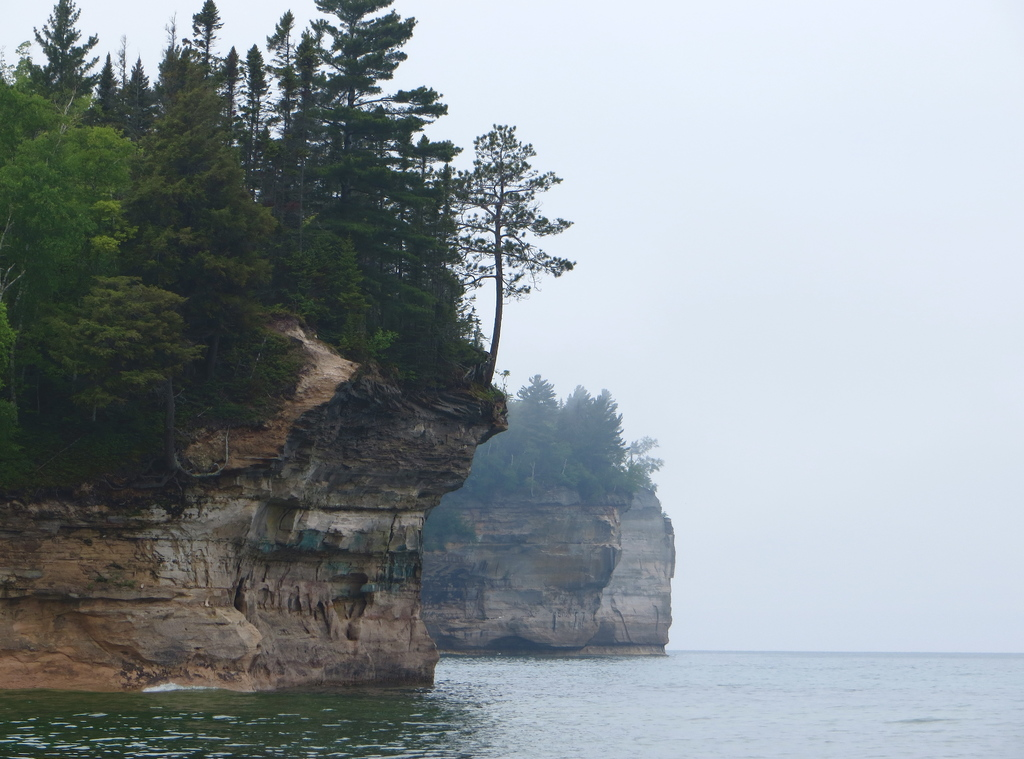Tree: (0, 0, 211, 497), (119, 44, 283, 375), (302, 0, 438, 350), (418, 374, 669, 556), (202, 8, 330, 322), (457, 106, 584, 403), (368, 85, 438, 356), (378, 133, 446, 386), (409, 140, 478, 379), (188, 0, 222, 73)
